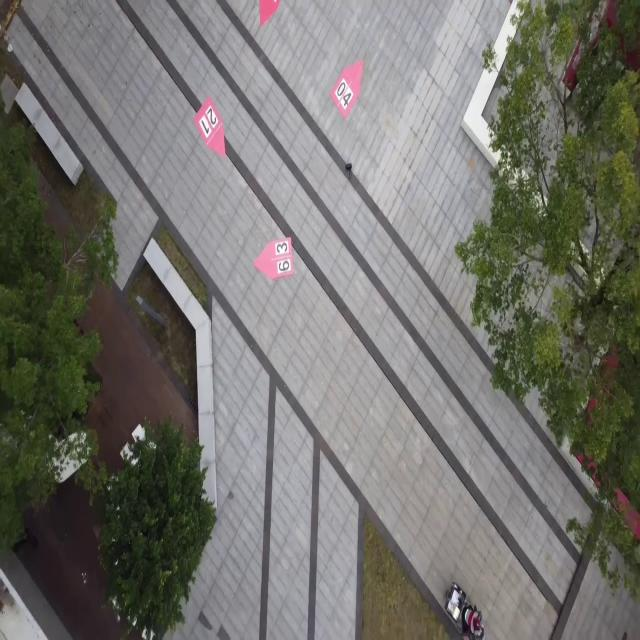-sign-: (327, 55, 371, 124), (256, 228, 298, 285), (193, 96, 226, 158)
